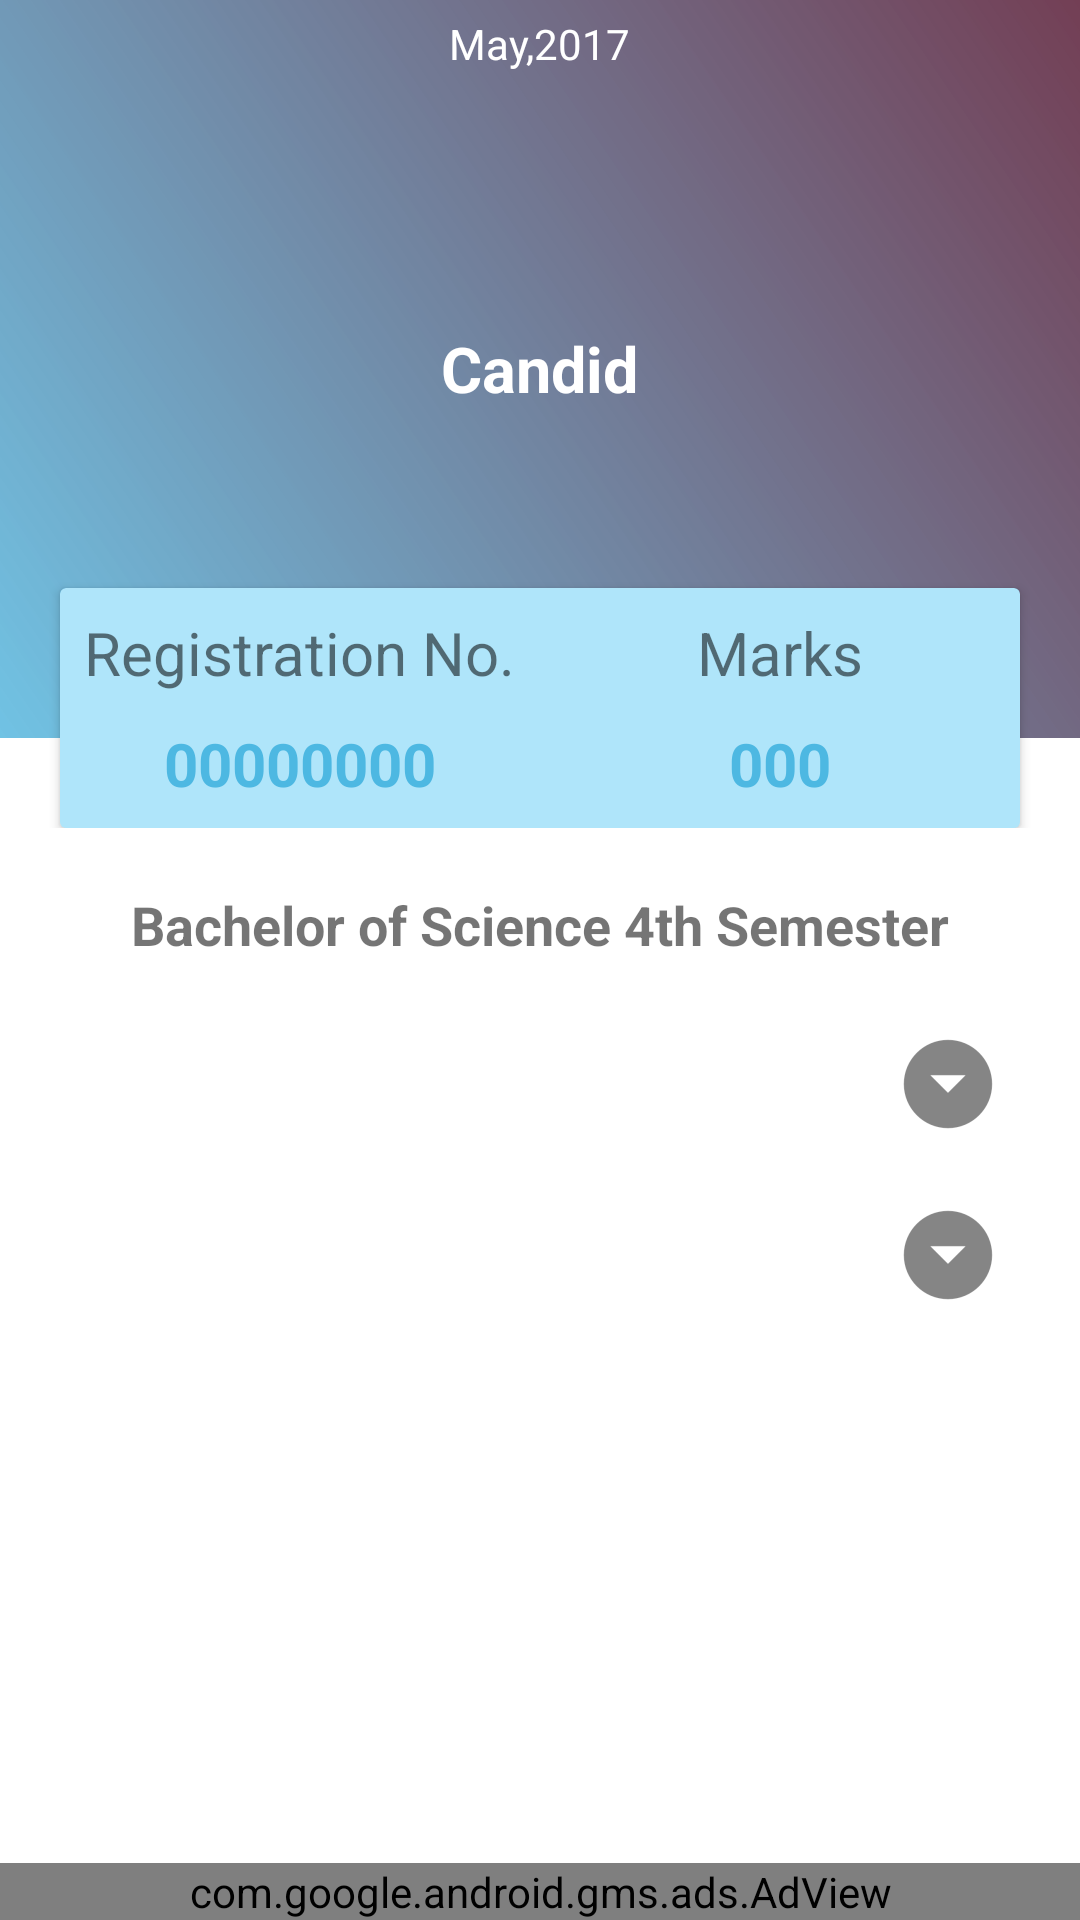

Icon click points for this 1080×1920 phone screenshot, format (x=x, y=y):
drop: (x=948, y=1084), (x=948, y=1255)
